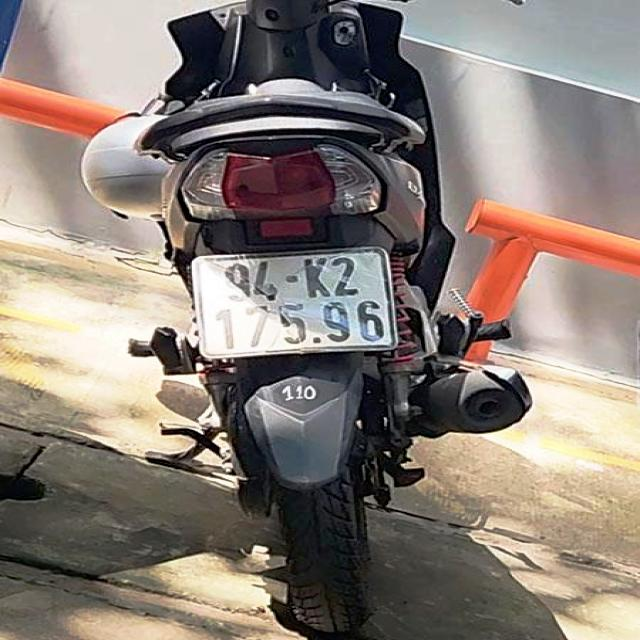license_plate: (198, 250, 398, 361)
